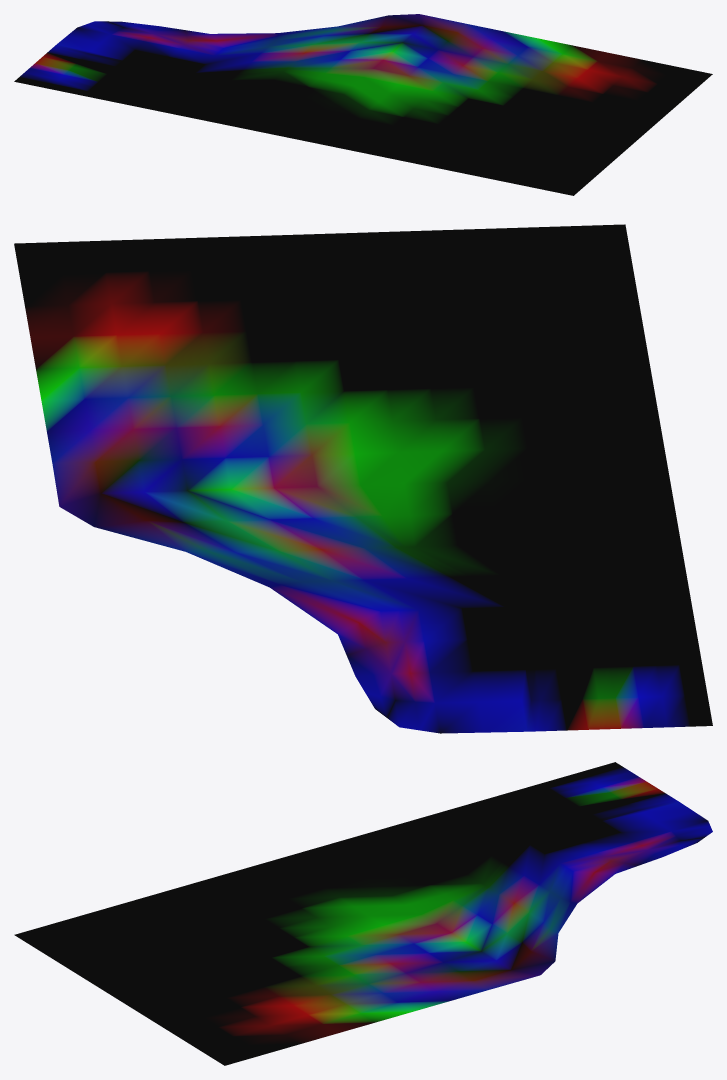
3 renders of one model, top to bottom at view 1: azimuth 30°, elevation 25°; view 2: azimuth 150°, elevation 25°; view 3: azimuth 270°, elevation 25°, orthographic. The views are drawn at different scales.
Visible parts, largest first — view 1: Sprite__4_; view 2: Sprite__4_; view 3: Sprite__4_.
Part boxes in pixels (left/top/right/bottom): Sprite__4_: left=14, top=14, right=712, bottom=195; Sprite__4_: left=14, top=224, right=712, bottom=733; Sprite__4_: left=14, top=762, right=712, bottom=1065.
Bounding box in the file's own units: 5721 × 8.36e-08 × 5563.
